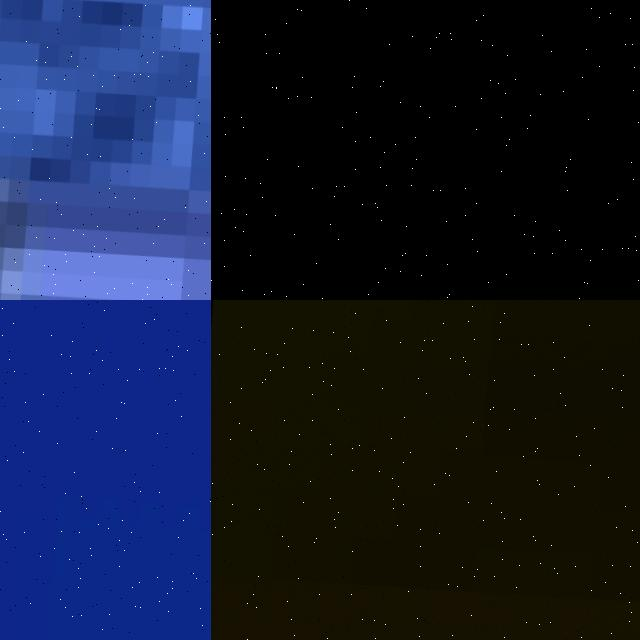drone: (211, 300, 640, 640), (211, 0, 640, 300), (0, 0, 211, 300)
